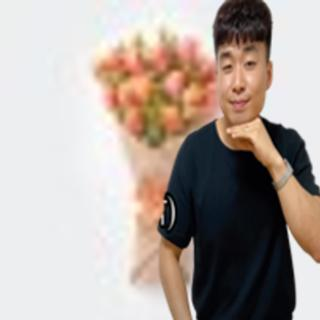Wait: (221, 113, 275, 166)
